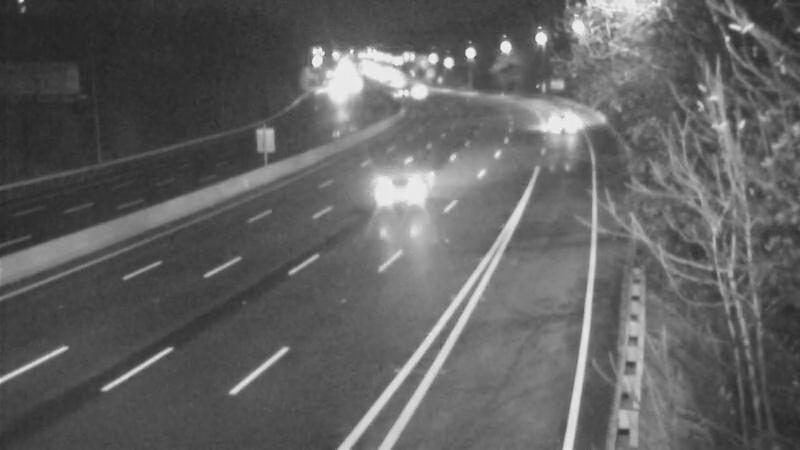vehicle: (347, 154, 427, 234), (399, 65, 449, 115), (528, 104, 578, 154)
